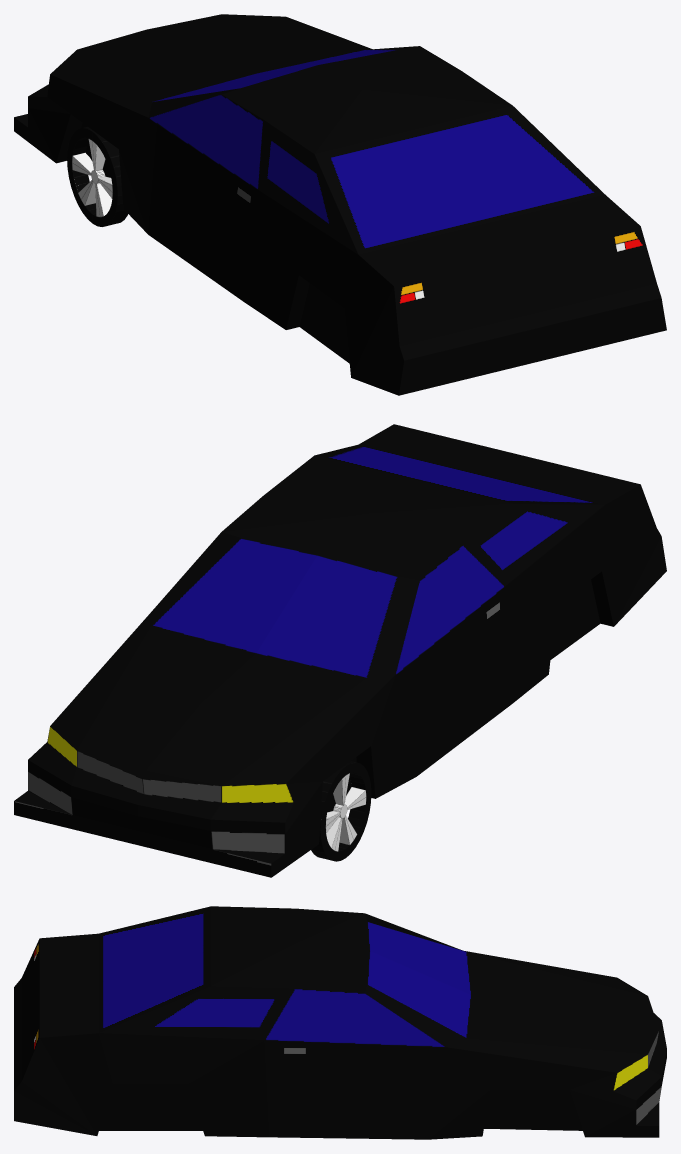
3 views of the same model, one above another, from view 1: azimuth 30°, elevation 25°; view 2: azimuth 150°, elevation 25°; view 3: azimuth 270°, elevation 25° (orthographic). The views are drawn at different scales.
Parts seen in each view (by area): view 1: Body, Wheel; view 2: Body, Wheel; view 3: Body.
Part boxes in pixels (left/top/right/bottom): Body: left=14, top=14, right=666, bottom=395; Wheel: left=67, top=126, right=127, bottom=226; Body: left=14, top=424, right=666, bottom=877; Wheel: left=311, top=761, right=371, bottom=861; Body: left=14, top=906, right=666, bottom=1139.
Size of the model in its own units: 100 by 74.09 by 255.
Materials: 2 (2 with a texture image).
